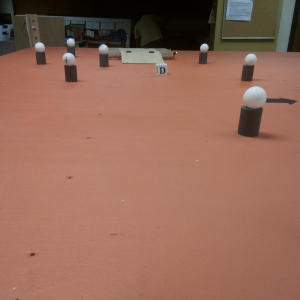obstacle: (240, 88, 262, 135), (62, 52, 78, 81), (241, 53, 257, 81), (197, 43, 209, 65), (99, 43, 108, 69), (35, 45, 46, 63), (66, 38, 75, 55)
slope: (118, 48, 163, 64)
